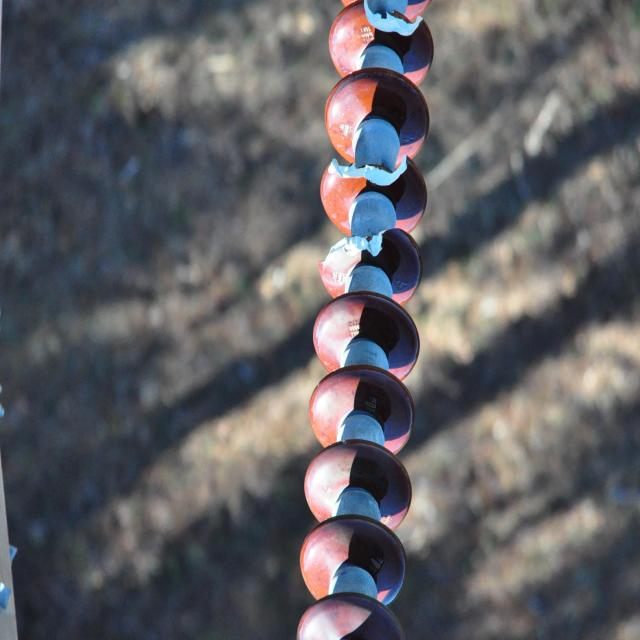broken: (315, 227, 394, 265), (328, 153, 412, 185), (361, 0, 425, 35)
insulator: (295, 0, 434, 638)
